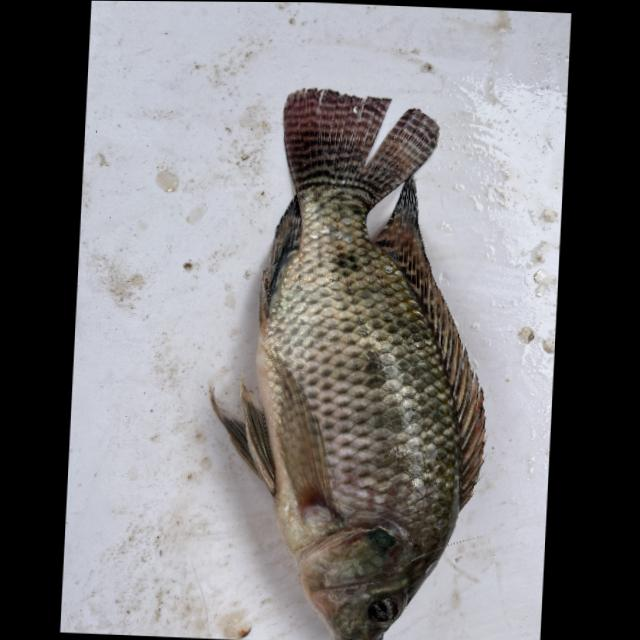Tilapia: (199, 81, 501, 640)
